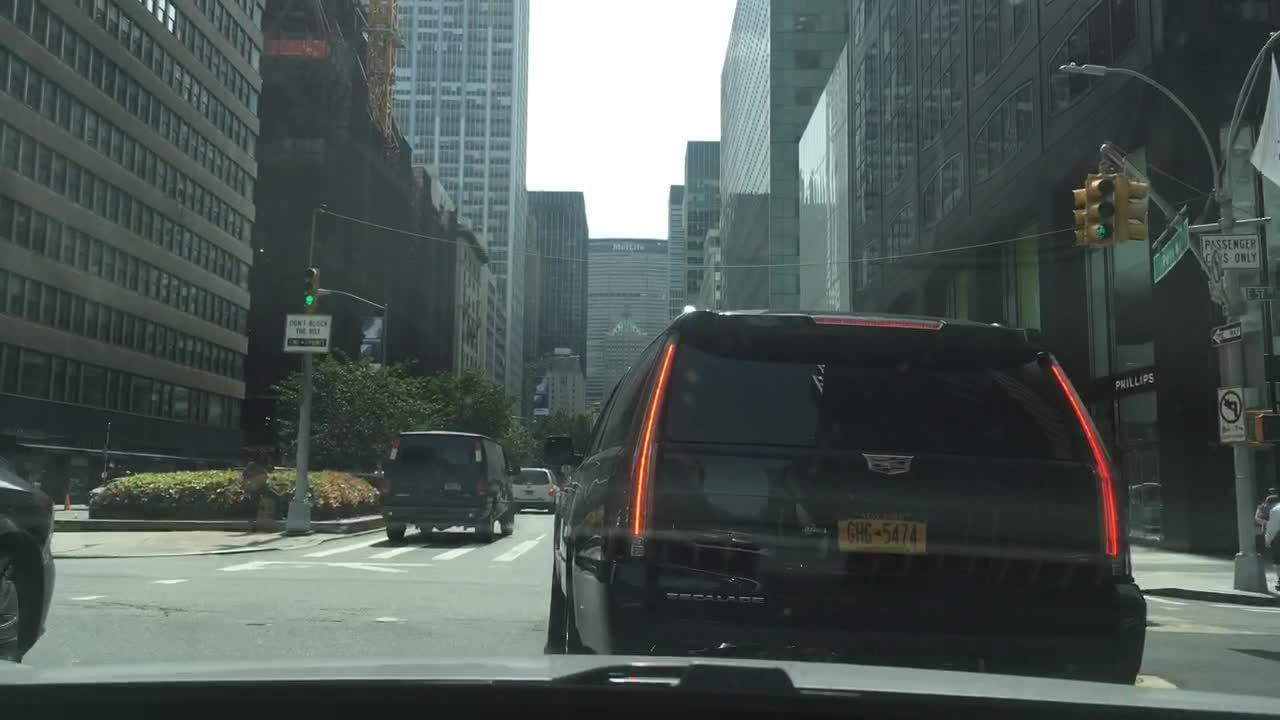cadillac: (855, 439, 920, 482)
